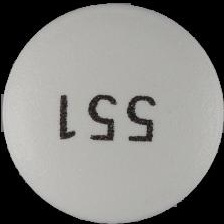63629-1535: (0, 0, 224, 224)
